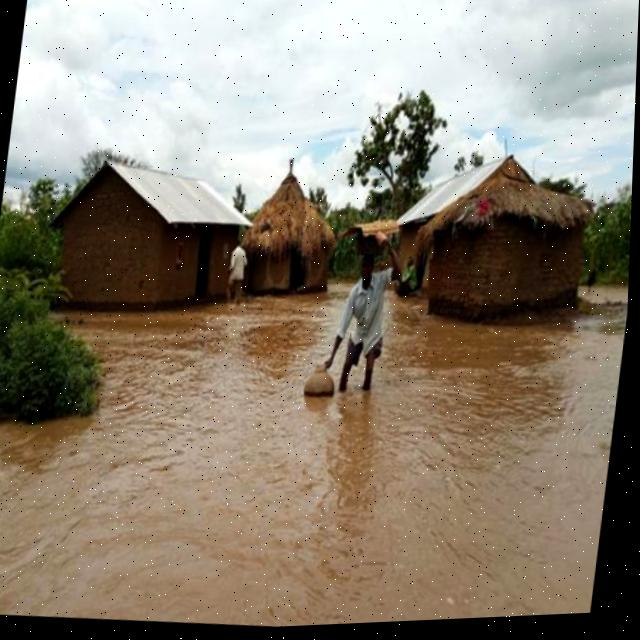civilian: (308, 215, 423, 419), (213, 231, 256, 316)
